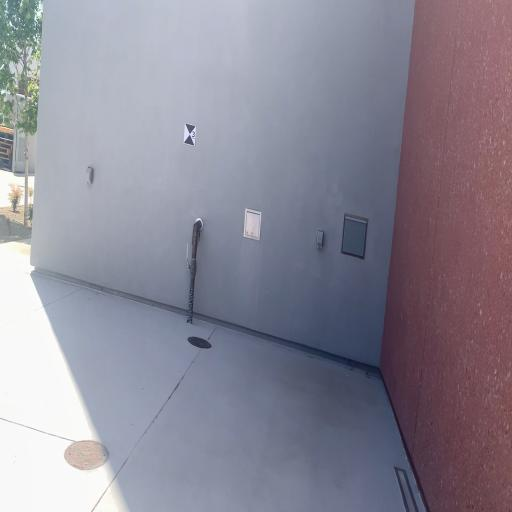target3: (183, 122, 197, 147)
